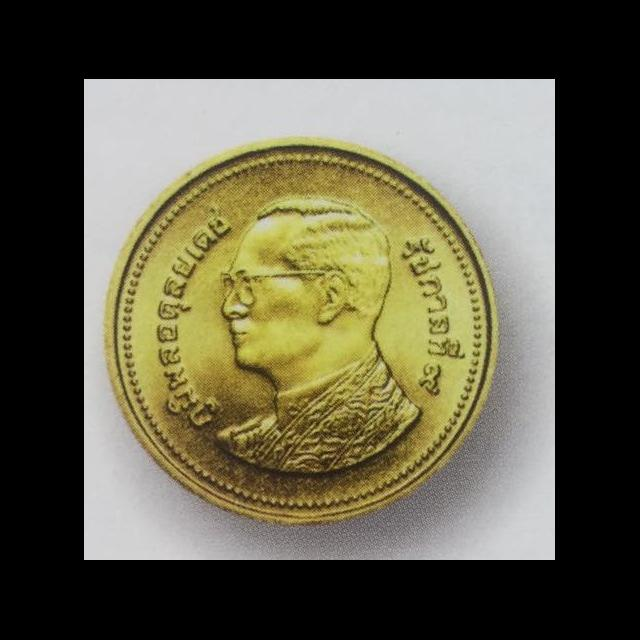2-baht: (94, 132, 517, 546)
